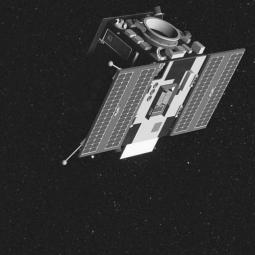proba_2: (34, 7, 249, 162)
